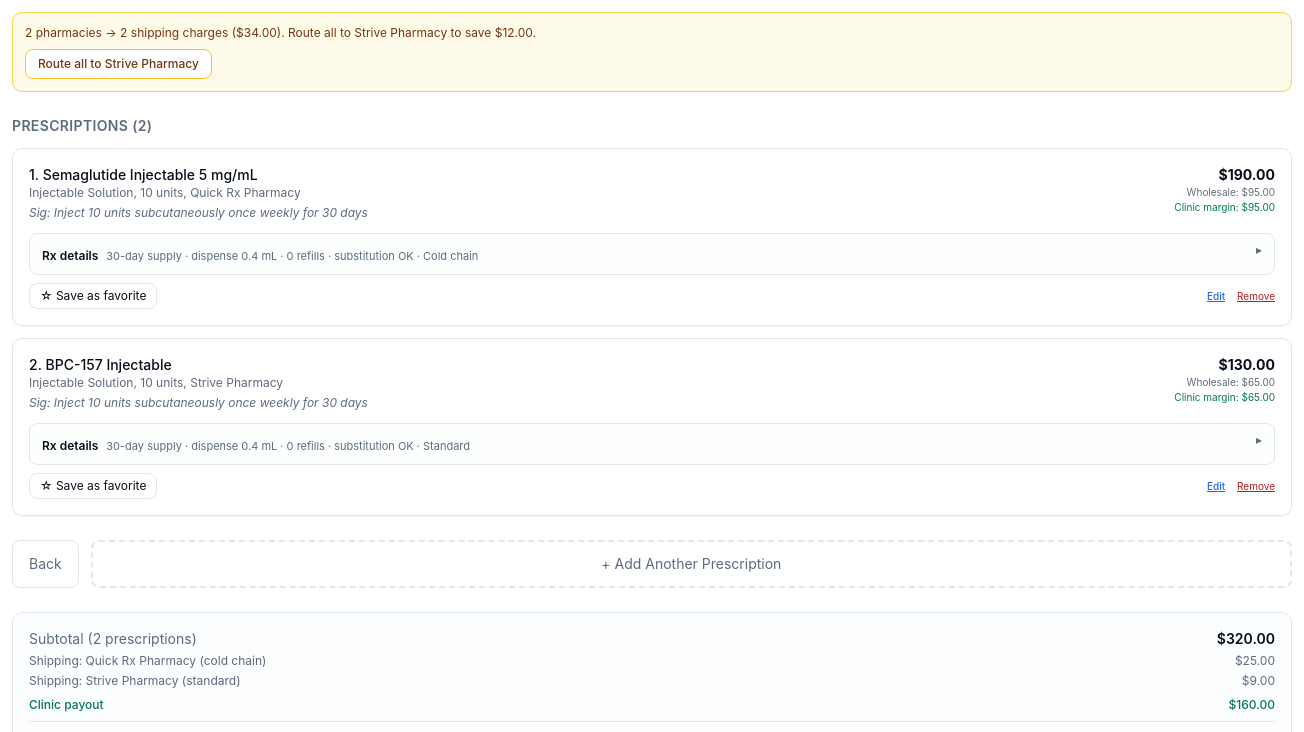
it: Multi-pharmacy notice — WO-102 › says what the split costs, offers Strive, and the re-route moves Semaglutide and recomputes shipping
Expected: the text with test id "multi-pharmacy-message" shows "2 pharmacies → 2 shipping charges ($34.00). Route all to Strive Pharmacy to save $12.00.", [25, 25, 536, 40]
Step 1. Click the button "Route all to Strive Pharmacy" → (118, 64), box [25, 49, 212, 79]
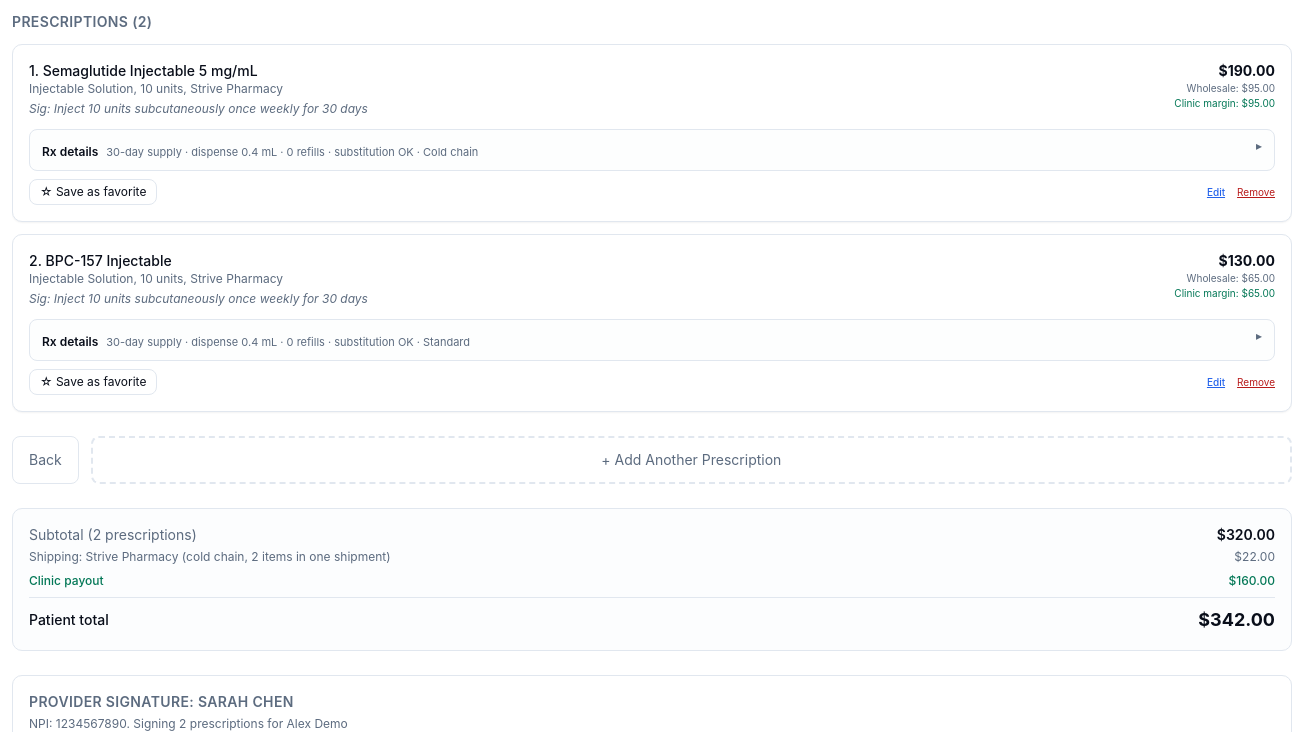
Now the message with test id "multi-pharmacy-notice" is gone
Now the text with test id "review-patient-total" reads "$342.00", box [1198, 609, 1275, 630]
